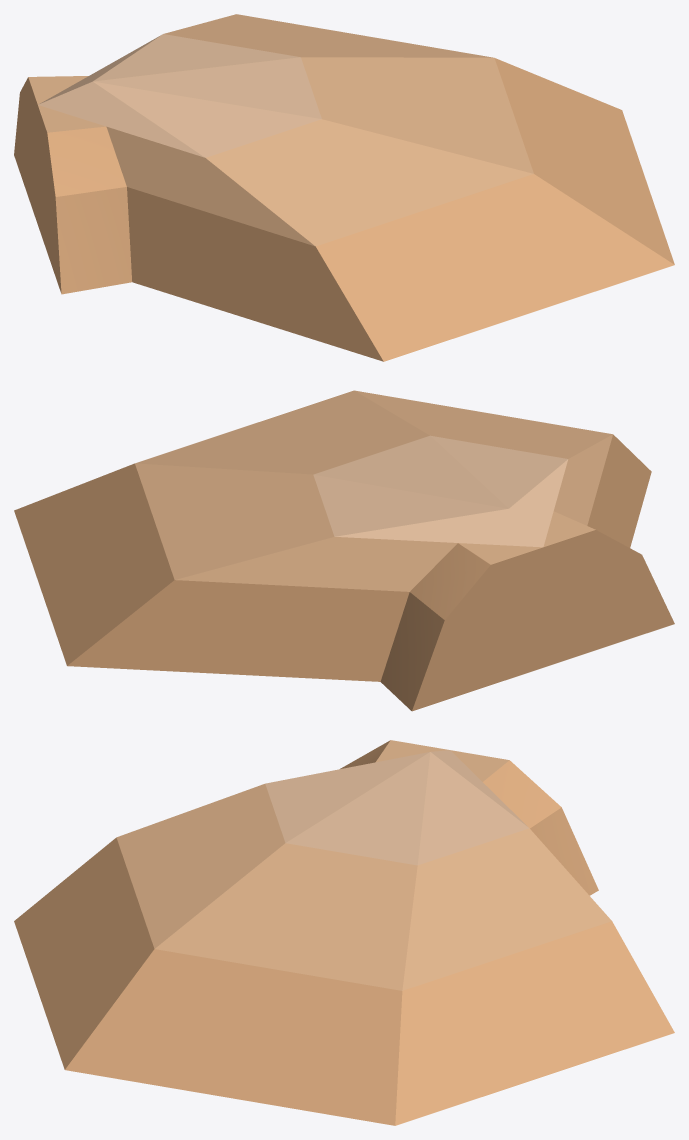
Rendered from Beach_Prop_Shell_2.glb.
3 views of the same model, one above another, from view 1: azimuth 30°, elevation 25°; view 2: azimuth 150°, elevation 25°; view 3: azimuth 270°, elevation 25° (orthographic). The views are drawn at different scales.
Parts seen in each view (by area): view 1: Beach_Prop_Shell_2; view 2: Beach_Prop_Shell_2; view 3: Beach_Prop_Shell_2.
Boxes of the visible parts, left/top/right/bottom form: Beach_Prop_Shell_2: left=14, top=14, right=674, bottom=361; Beach_Prop_Shell_2: left=14, top=390, right=674, bottom=711; Beach_Prop_Shell_2: left=14, top=740, right=674, bottom=1125.
Size of the model in its own units: 0.1425 by 0.0312 by 0.1393.
